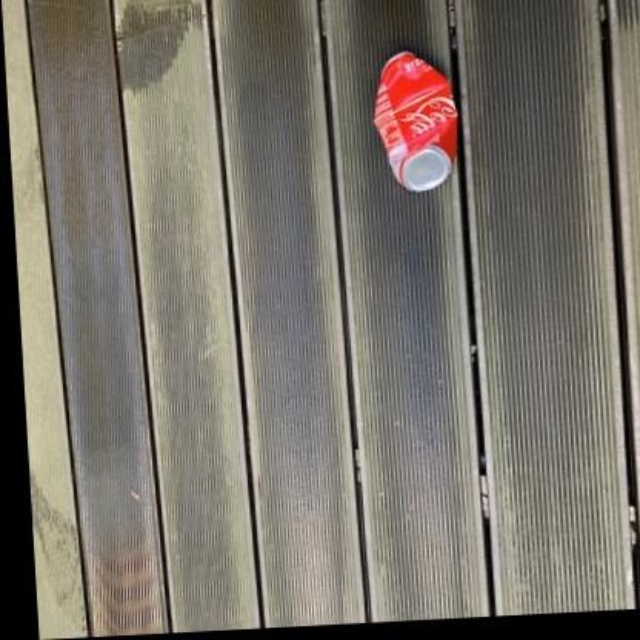trash: (374, 52, 455, 191)
